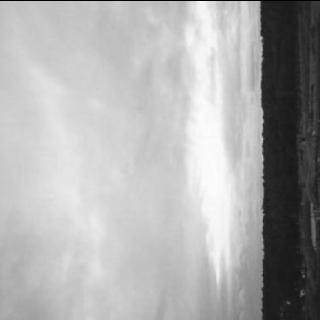Stratocumulus: (0, 0, 257, 320)
